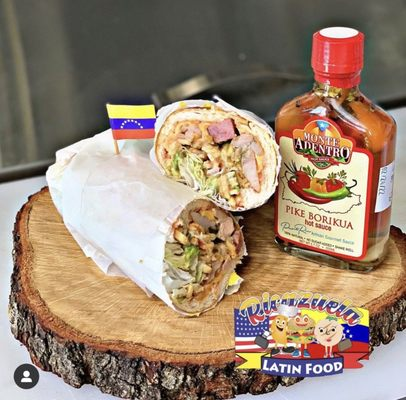soup: (152, 96, 280, 211), (160, 197, 249, 316)
